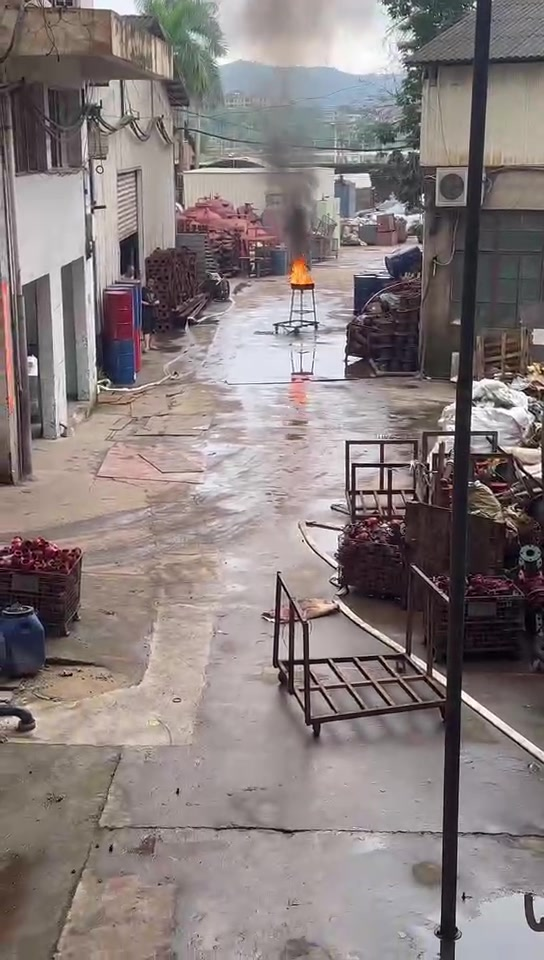fire: (291, 257, 313, 284)
